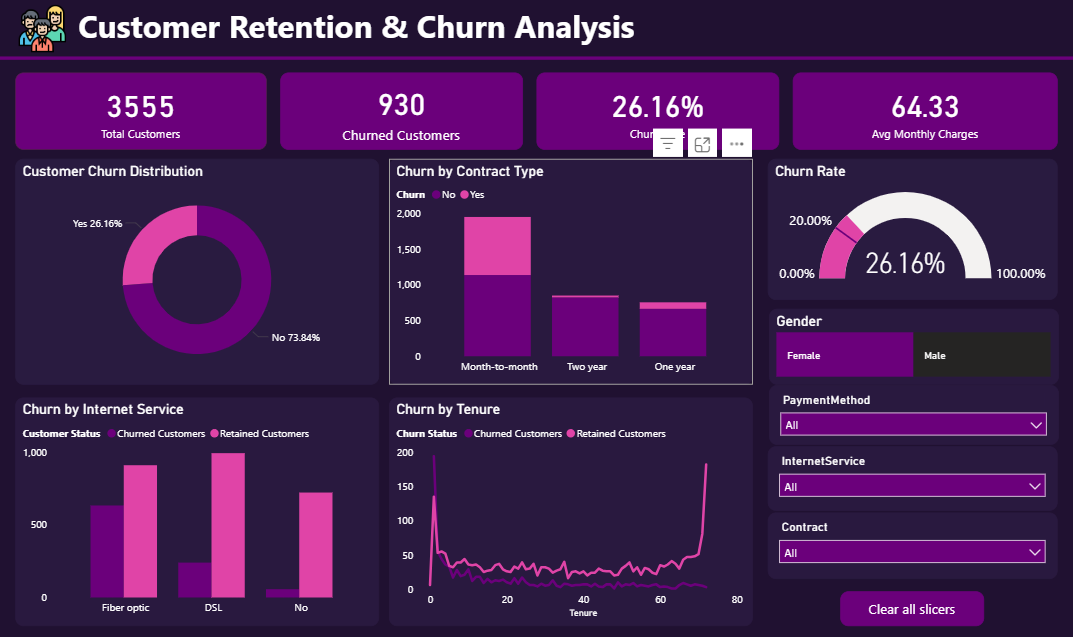

Layout of this report page (visuals, bound fields, positions):
{"tool":"powerbi","page":{"name":"Page 1","canvas":[1280,760],"ordinal":0},"visuals":[{"type":"card","fields":{"Values":["WA_Fn-UseC_-Telco-Customer-Churn.Total Customers"]},"box":[19.3,86.2,298.9,92.2],"z":0},{"type":"card","fields":{"Values":["WA_Fn-UseC_-Telco-Customer-Churn.Churned Customers"]},"box":[334.6,86.2,288.5,92.2],"z":1000},{"type":"card","fields":{"Values":["WA_Fn-UseC_-Telco-Customer-Churn.Churn Rate"]},"box":[639.4,86.2,288.5,92.2],"z":1001},{"type":"card","fields":{"Values":["WA_Fn-UseC_-Telco-Customer-Churn.Avg Monthly Charges"]},"box":[944.2,86.2,315.2,92.2],"z":1002},{"type":"donutChart","title":"Customer Churn Distribution","fields":{"Category":["WA_Fn-UseC_-Telco-Customer-Churn.Churn"],"Y":["CountNonNull(WA_Fn-UseC_-Telco-Customer-Churn.customerID)"]},"box":[19.3,188.8,432.7,269.1],"z":1003},{"type":"columnChart","title":"Churn by Contract Type","fields":{"Category":["WA_Fn-UseC_-Telco-Customer-Churn.Contract"],"Y":["CountNonNull(WA_Fn-UseC_-Telco-Customer-Churn.customerID)"],"Series":["WA_Fn-UseC_-Telco-Customer-Churn.Churn"]},"box":[463.9,188.8,432.7,269.1],"z":1004},{"type":"clusteredColumnChart","title":"Churn by Internet Service","fields":{"Category":["WA_Fn-UseC_-Telco-Customer-Churn.InternetService"],"Y":["CountNonNull(WA_Fn-UseC_-Telco-Customer-Churn.customerID)"],"Series":["WA_Fn-UseC_-Telco-Customer-Churn.Churn Status"]},"box":[19.3,472.9,432.7,272.1],"z":1005},{"type":"lineChart","title":"Churn by Tenure","fields":{"Category":["WA_Fn-UseC_-Telco-Customer-Churn.tenure"],"Y":["CountNonNull(WA_Fn-UseC_-Telco-Customer-Churn.customerID)"],"Series":["WA_Fn-UseC_-Telco-Customer-Churn.Churn Status"]},"box":[464,473,433,272],"z":1006},{"type":"advancedSlicerVisual","title":"Gender","fields":{"Values":["WA_Fn-UseC_-Telco-Customer-Churn.gender"]},"box":[916.7,367.1,344.5,90.4],"z":1007},{"type":"slicer","fields":{"Values":["WA_Fn-UseC_-Telco-Customer-Churn.Contract"]},"box":[914.8,609.9,344.5,79.1],"z":1008},{"type":"slicer","fields":{"Values":["WA_Fn-UseC_-Telco-Customer-Churn.PaymentMethod"]},"box":[916.7,457.4,344.5,71.5],"z":1009},{"type":"slicer","fields":{"Values":["WA_Fn-UseC_-Telco-Customer-Churn.InternetService"]},"box":[914.8,530.8,344.5,77.2],"z":1010},{"type":"actionButton","box":[1000.7,703.3,171,41.6],"z":1011},{"type":"gauge","fields":{"Y":["WA_Fn-UseC_-Telco-Customer-Churn.Churn Rate"]},"box":[914.5,188.8,345,168],"z":1012},{"type":"shape","box":[0,62.5,1280.3,13.4],"z":1013},{"type":"textbox","box":[89.2,0,792.6,62.5],"z":1014},{"type":"image","box":[0,0,102.6,68.4],"z":1015}]}

Visuals, with their boxes in screenshot pixels (x1, y1, x2, y2), scaled from the page's 1280x760 canvas onto the 1073x637 screenshot:
card - WA_Fn-UseC_-Telco-Customer-Churn.Total Customers: <bbox>16, 72, 267, 150</bbox>
card - WA_Fn-UseC_-Telco-Customer-Churn.Churned Customers: <bbox>280, 72, 522, 150</bbox>
card - WA_Fn-UseC_-Telco-Customer-Churn.Churn Rate: <bbox>536, 72, 778, 150</bbox>
card - WA_Fn-UseC_-Telco-Customer-Churn.Avg Monthly Charges: <bbox>792, 72, 1056, 150</bbox>
"Customer Churn Distribution" donutChart: <bbox>16, 158, 379, 384</bbox>
"Churn by Contract Type" columnChart: <bbox>389, 158, 752, 384</bbox>
"Churn by Internet Service" clusteredColumnChart: <bbox>16, 396, 379, 624</bbox>
"Churn by Tenure" lineChart: <bbox>389, 396, 752, 624</bbox>
"Gender" advancedSlicerVisual: <bbox>768, 308, 1057, 383</bbox>
slicer - WA_Fn-UseC_-Telco-Customer-Churn.Contract: <bbox>767, 511, 1056, 577</bbox>
slicer - WA_Fn-UseC_-Telco-Customer-Churn.PaymentMethod: <bbox>768, 383, 1057, 443</bbox>
slicer - WA_Fn-UseC_-Telco-Customer-Churn.InternetService: <bbox>767, 445, 1056, 510</bbox>
actionButton: <bbox>839, 589, 982, 624</bbox>
gauge - WA_Fn-UseC_-Telco-Customer-Churn.Churn Rate: <bbox>767, 158, 1056, 299</bbox>
shape: <bbox>0, 52, 1072, 64</bbox>
textbox: <bbox>75, 0, 739, 52</bbox>
image: <bbox>0, 0, 86, 57</bbox>
